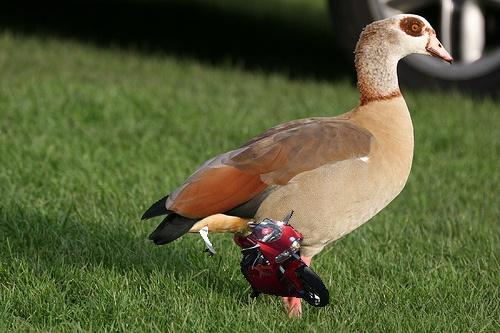tampered: (200, 211, 329, 307)
